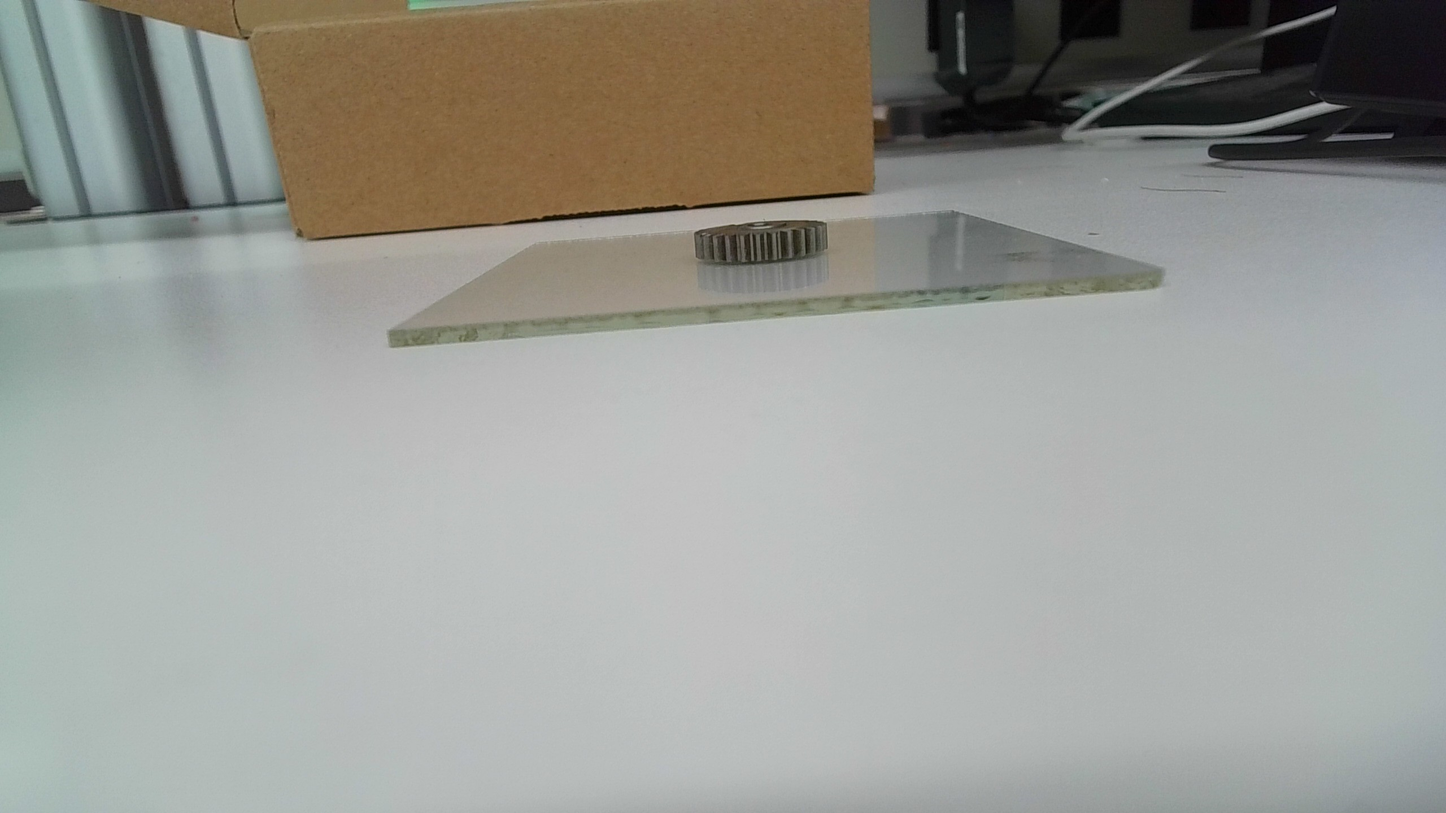gear: (692, 219, 830, 268)
